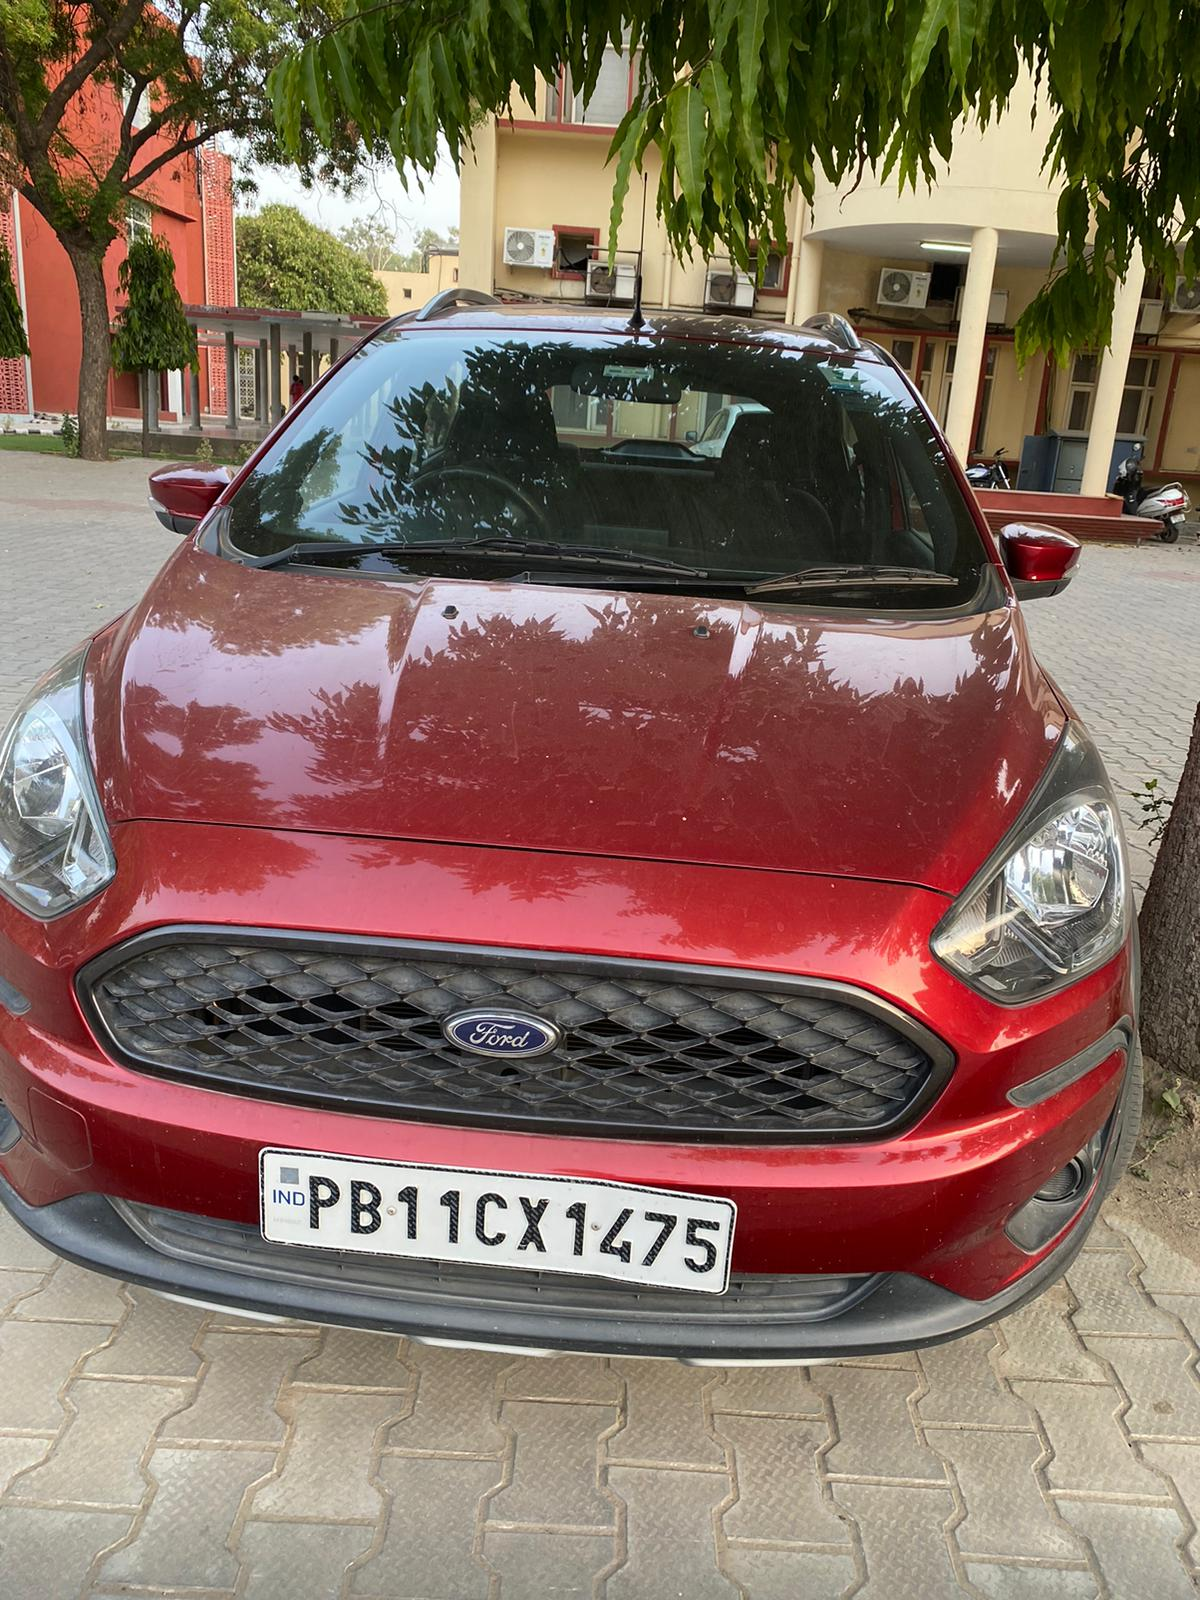license plate: (260, 1148, 735, 1293)
